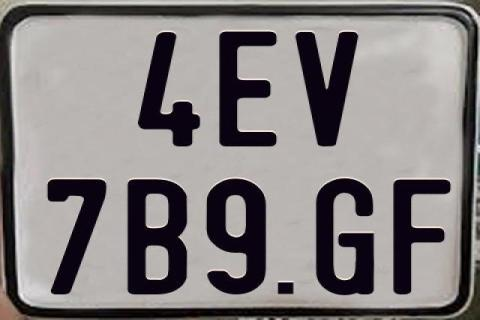0: (137, 30, 202, 146), (206, 176, 270, 292), (44, 177, 106, 292)
B: (126, 179, 188, 295)
E: (218, 31, 282, 146)
F: (392, 180, 450, 296)
G: (313, 178, 377, 294)
V: (296, 31, 361, 145)
